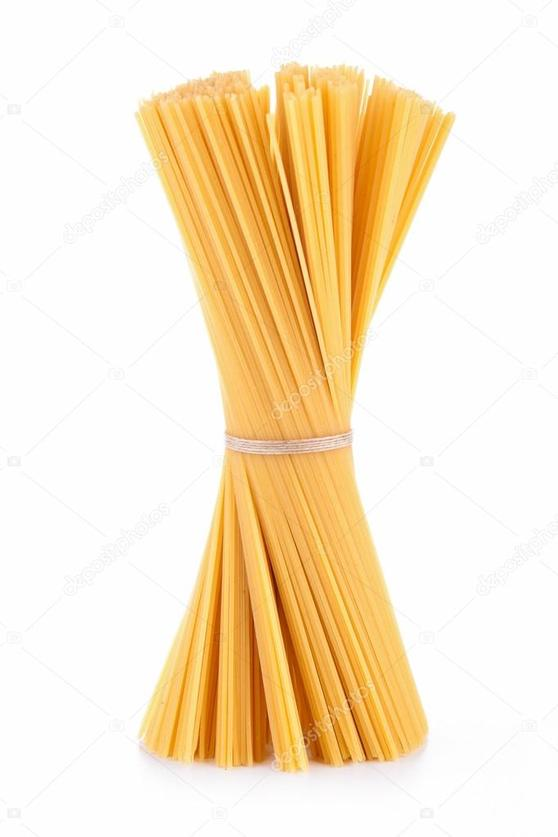spaghetti: (120, 39, 480, 772)
